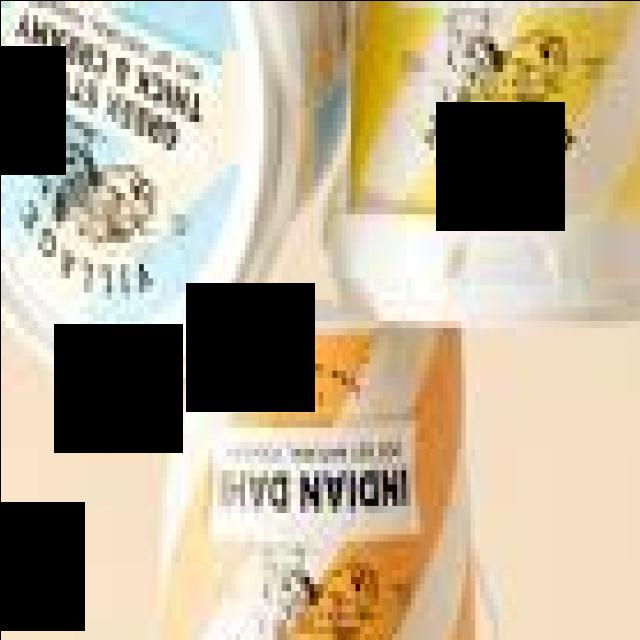yoghurt: (156, 306, 478, 640), (319, 0, 640, 327)
